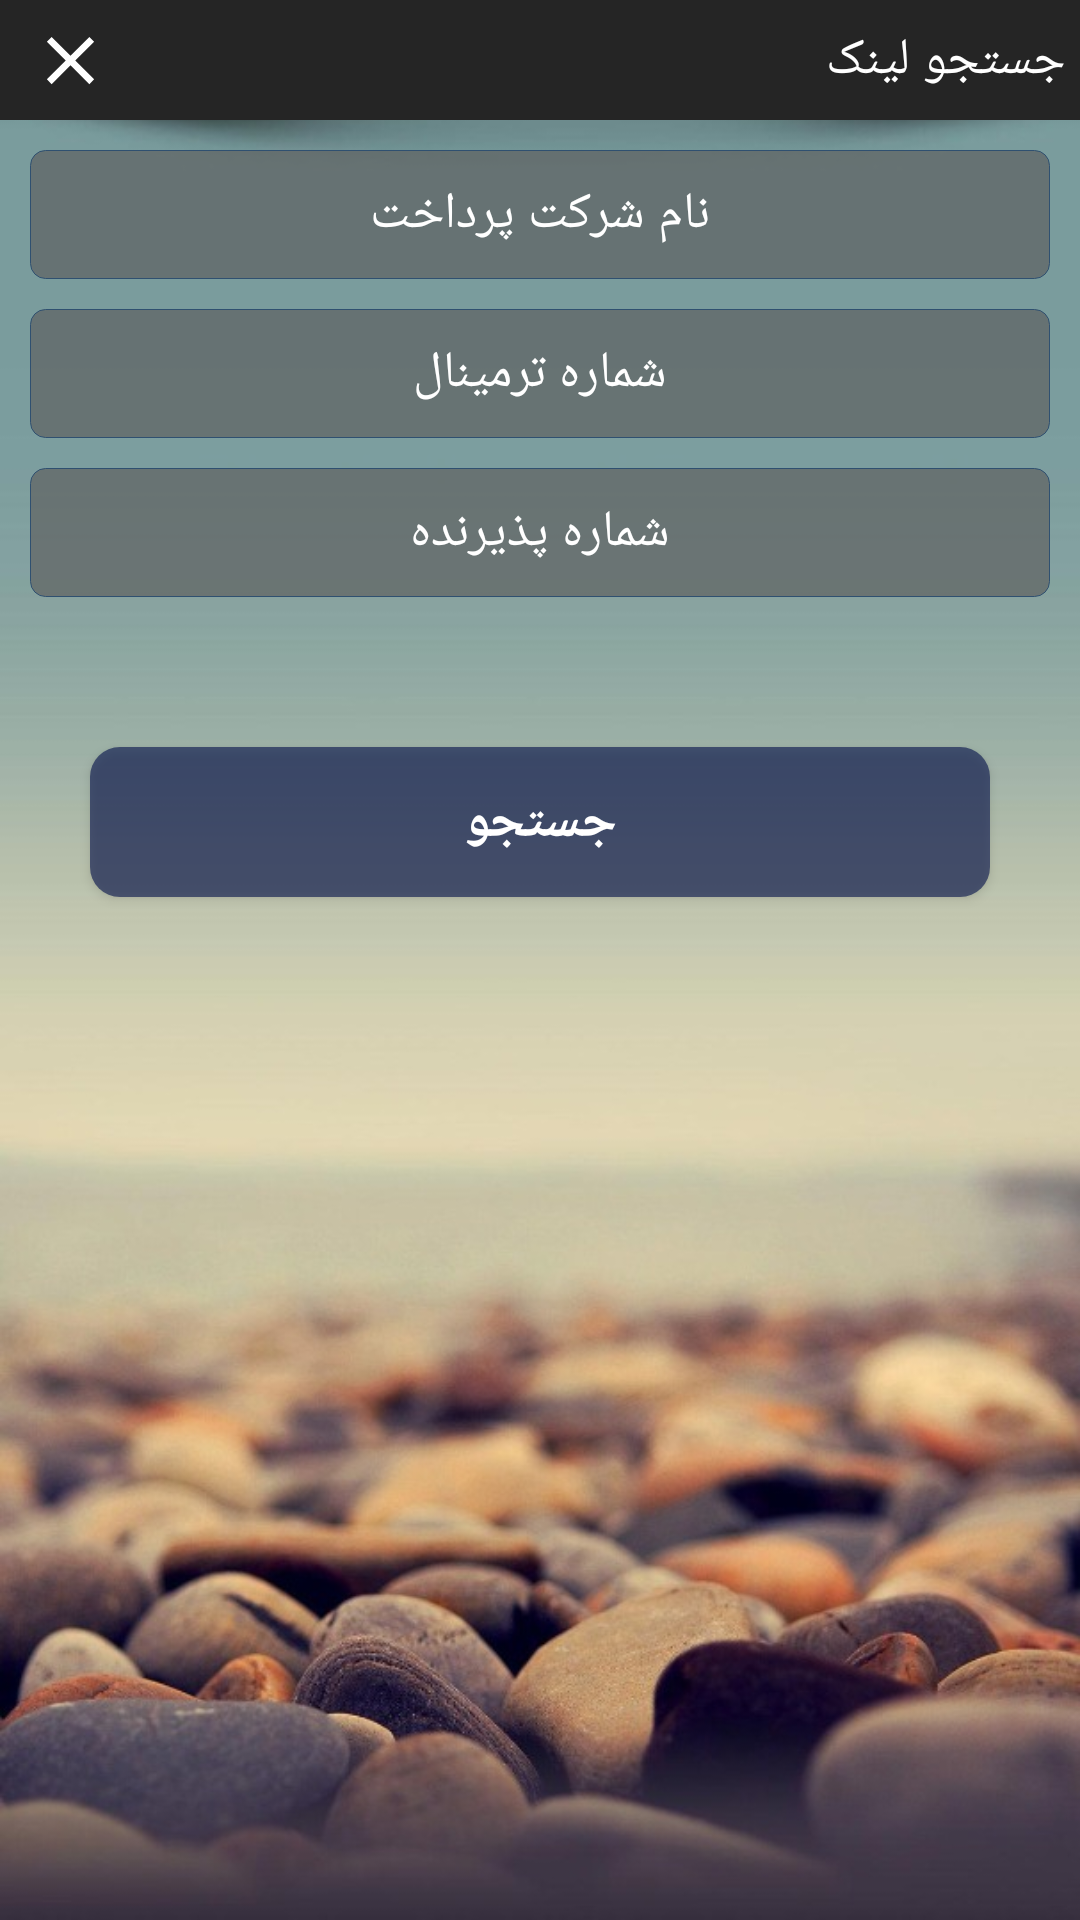

Screen size 1080*1920. Icon name, then its box in pixels as detection(x1, y1, x2, y2):
close dialog: detection(47, 37, 94, 84)
